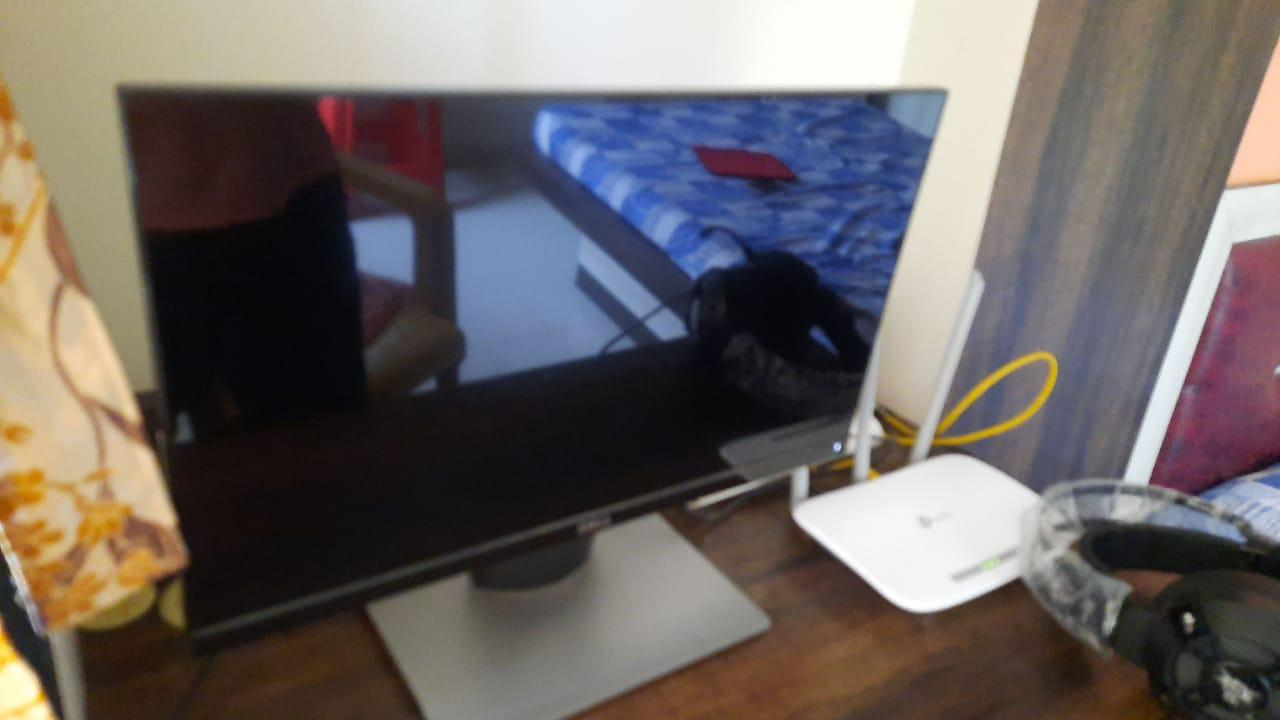monitor: (109, 79, 948, 720)
